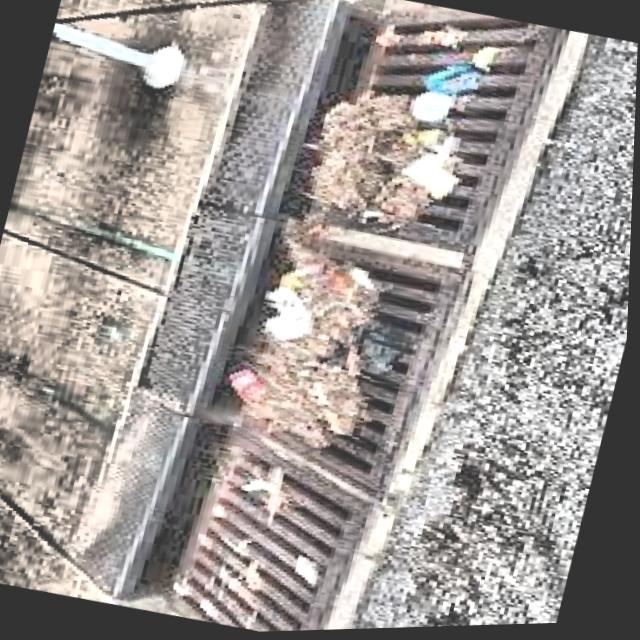clogged_drains: (310, 24, 547, 237), (255, 220, 436, 469), (179, 444, 349, 632)
